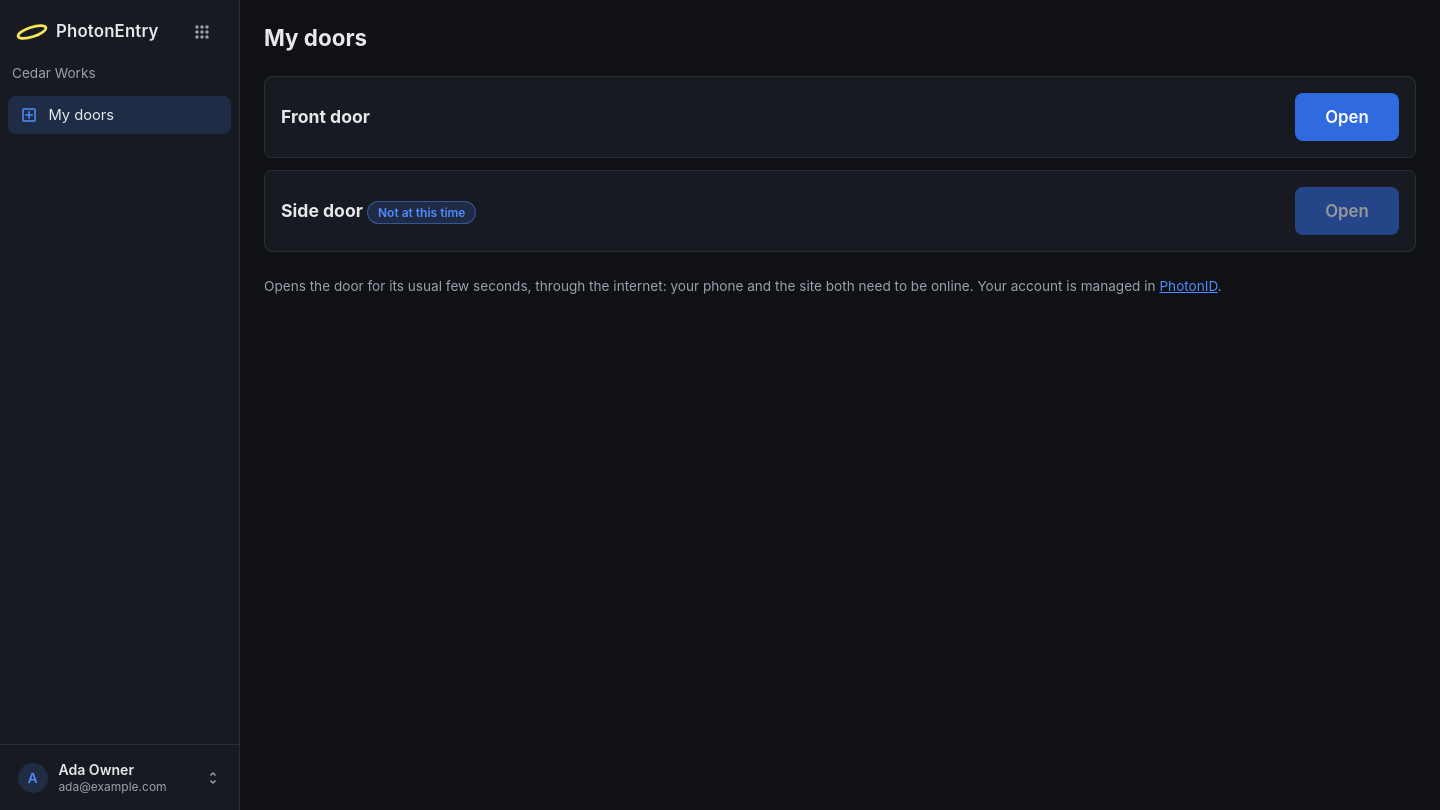
my doors › a door user lands on their doors, sees nothing else, and opens one
Expected: the heading "My doors" is shown, [264,24,367,52]
Expected: the link does not show "Doors"
Click the button "Open" in the row of "Front door".
click(1347, 117)  # box [1295,93,1399,141]
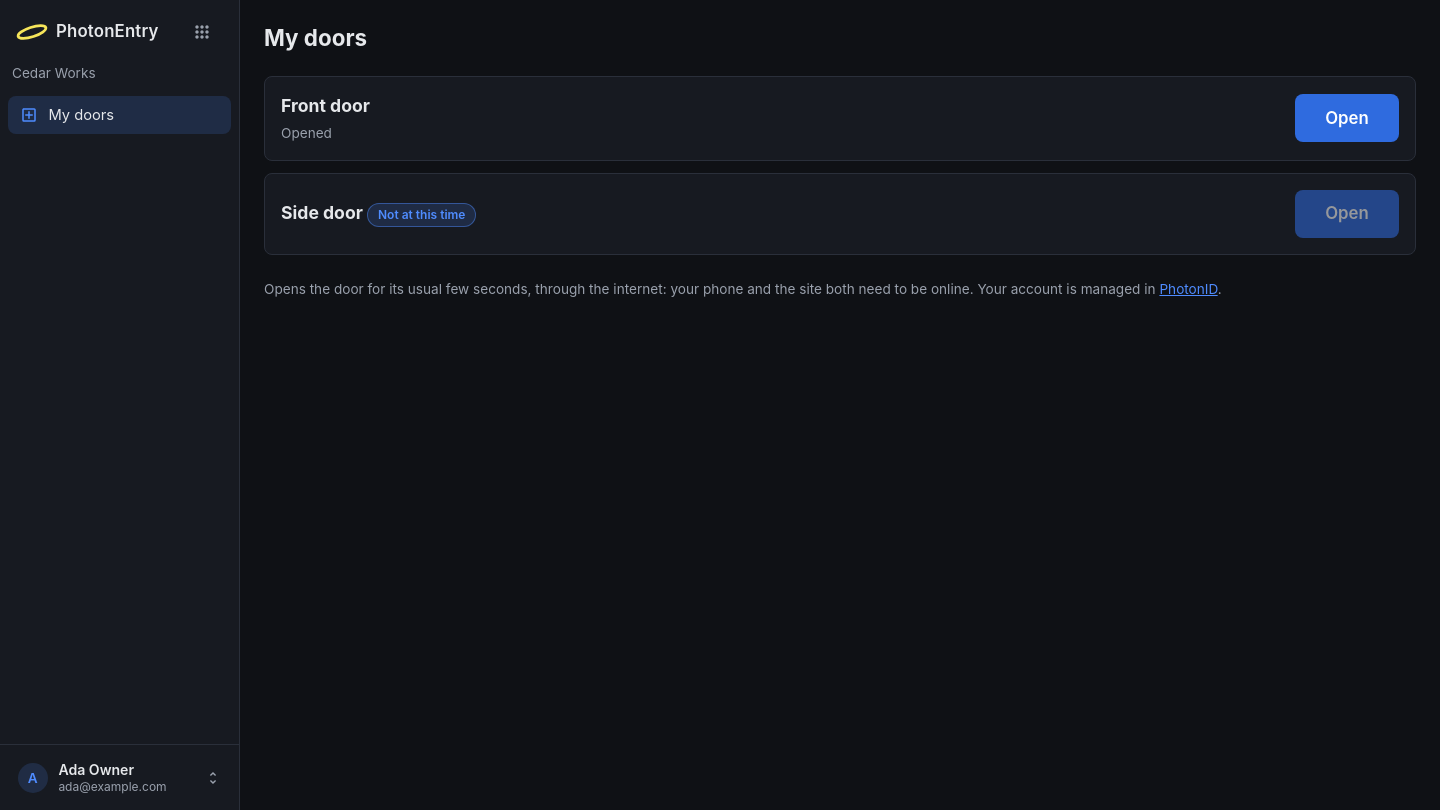
Now the message reads "Opened", box [281,125,332,141]
